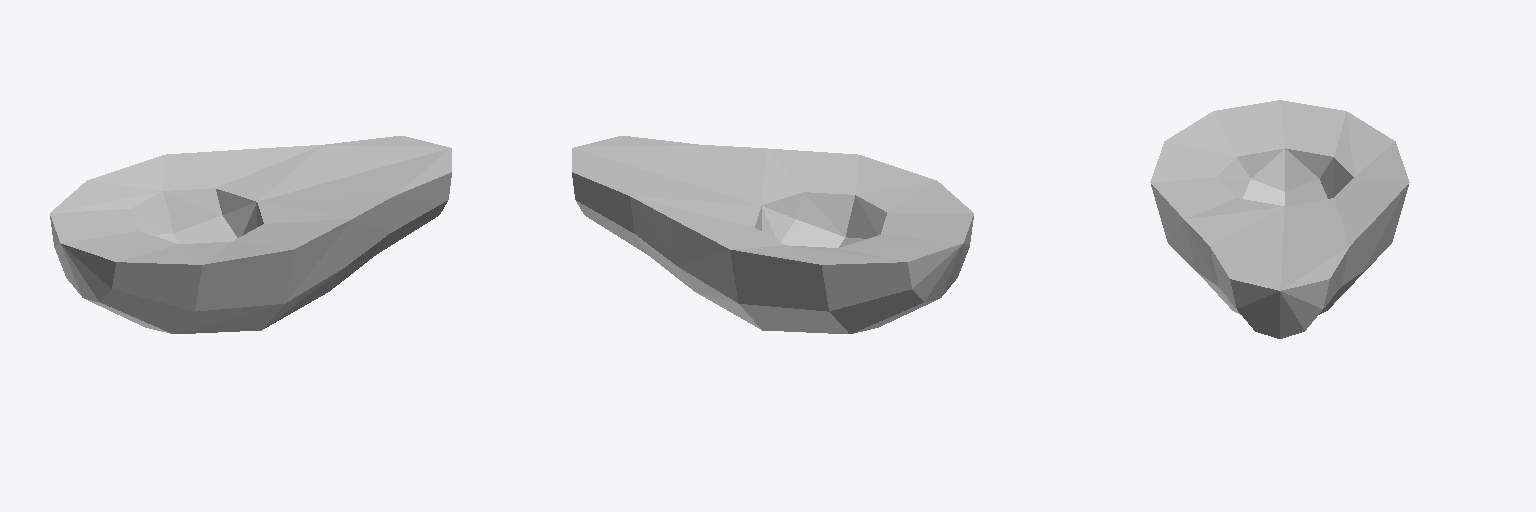
File: Avocado.OBJ
3 views of the same model, side by side, from view 1: azimuth 30°, elevation 25°; view 2: azimuth 150°, elevation 25°; view 3: azimuth 270°, elevation 25° (orthographic).
Size of the model in its own units: 0.1569 by 0.0464 by 0.0901.